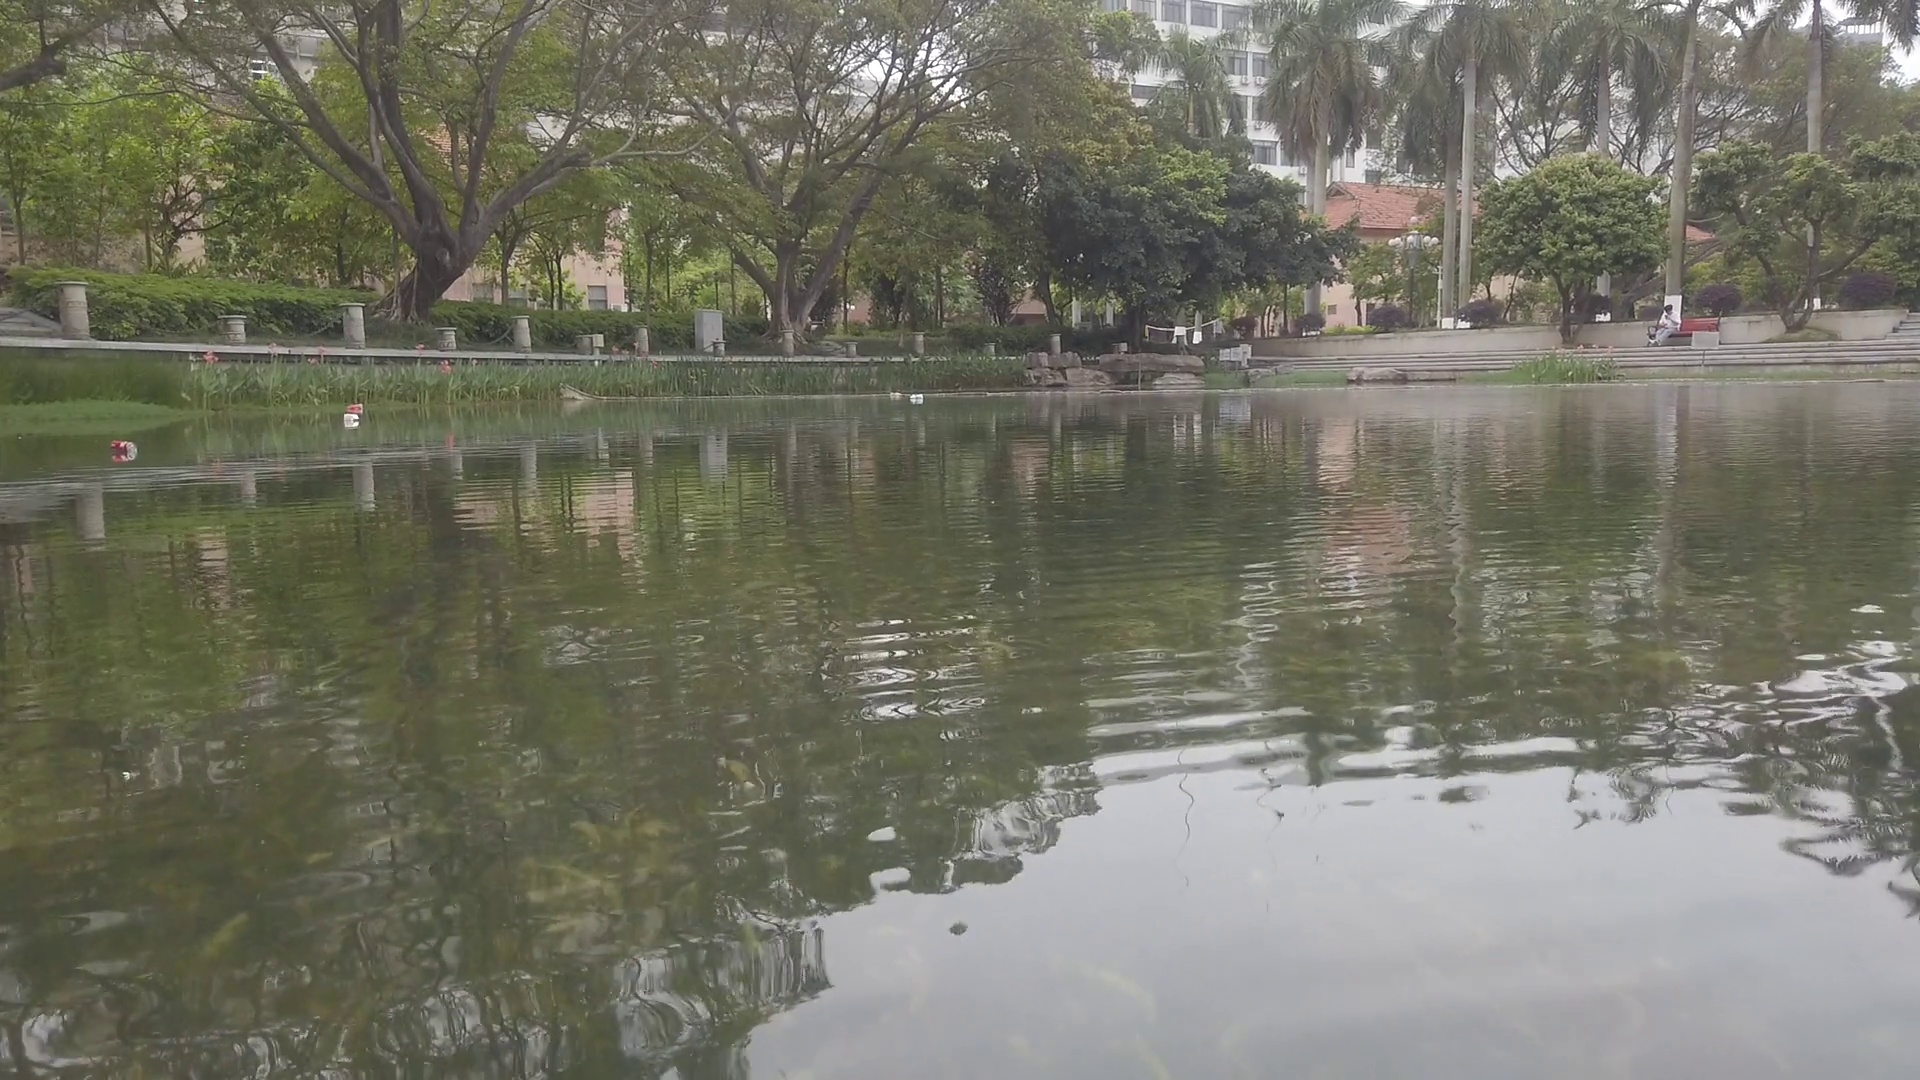bottle: (109, 440, 137, 454), (349, 404, 363, 411), (910, 394, 923, 400), (890, 392, 902, 397)
carton: (344, 414, 360, 425)
